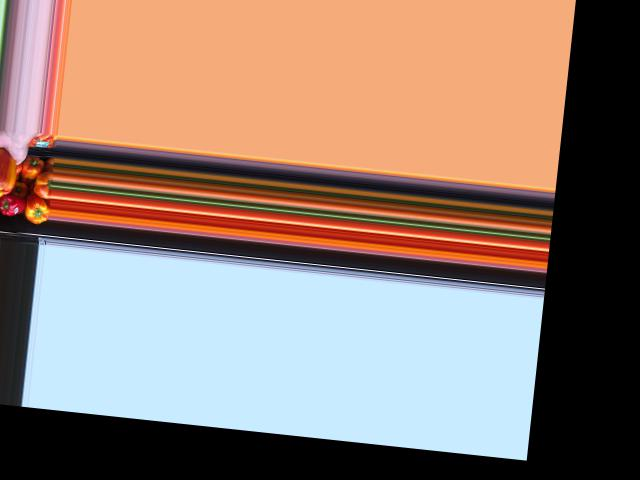bell_pepper: (18, 157, 46, 181)
